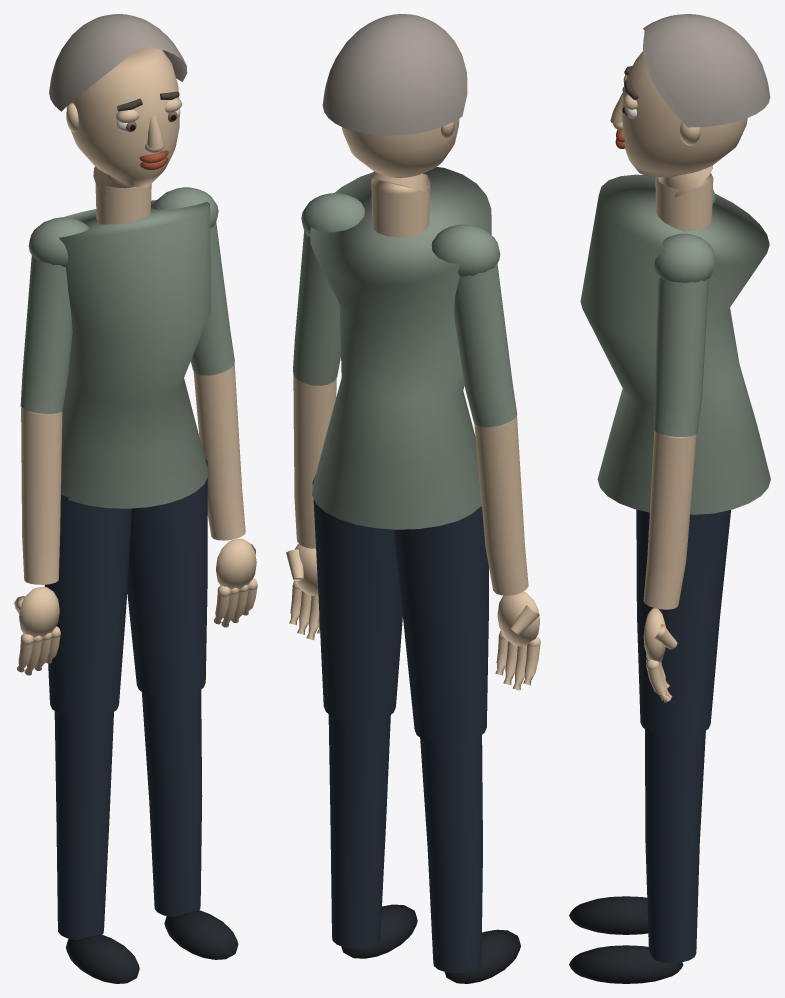
The picture shows the model from 3 angles, left to right: view 1: azimuth 30°, elevation 25°; view 2: azimuth 150°, elevation 25°; view 3: azimuth 270°, elevation 25°; orthographic projection. The views are drawn at different scales.
Visible parts, largest first — view 1: aboud_fig, aboud_head; view 2: aboud_fig, aboud_head; view 3: aboud_fig, aboud_head.
Boxes of the visible parts, x1,y1,x2,y2 form: aboud_fig: [14, 183, 257, 983]; aboud_head: [49, 14, 187, 194]; aboud_fig: [286, 167, 540, 983]; aboud_head: [322, 14, 467, 192]; aboud_fig: [569, 173, 770, 983]; aboud_head: [610, 14, 770, 197].
Bounding box in the file's own units: 0.4822 × 1.76 × 0.344.
